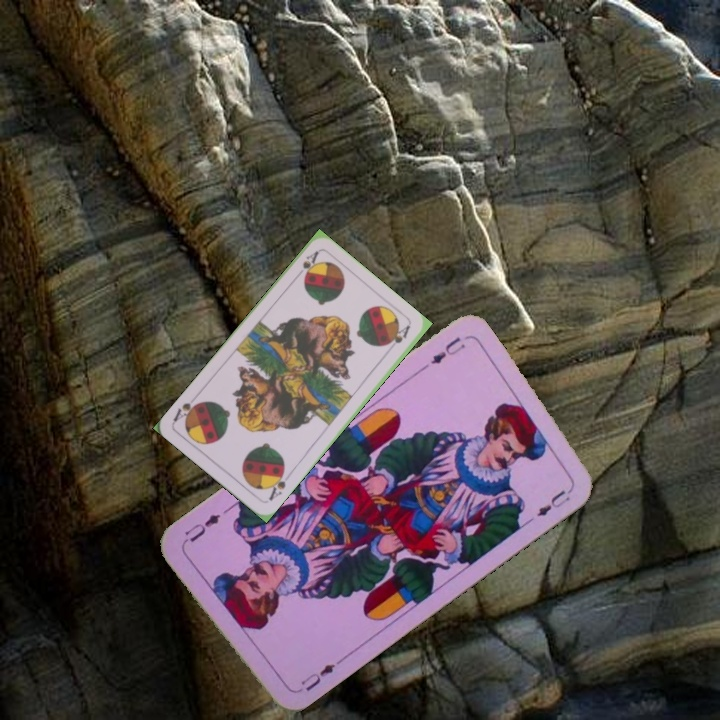EU: (290, 656, 343, 696), (426, 332, 468, 367)
SA: (291, 246, 321, 282), (264, 465, 288, 504)
